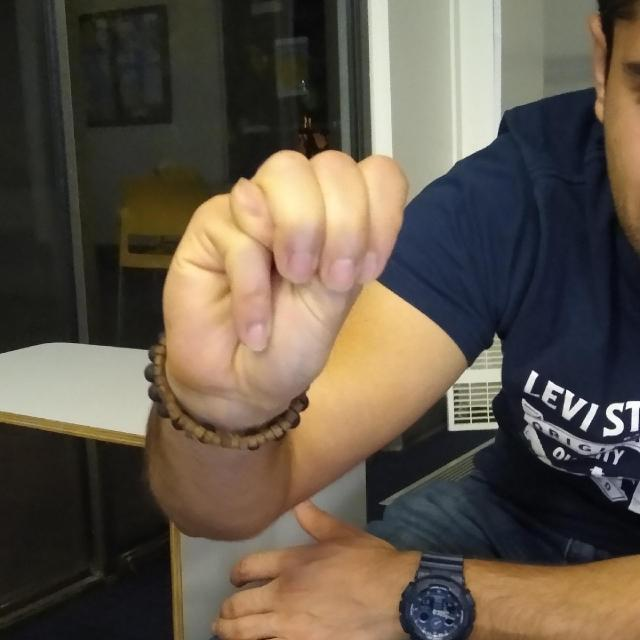M: (139, 117, 434, 464)
